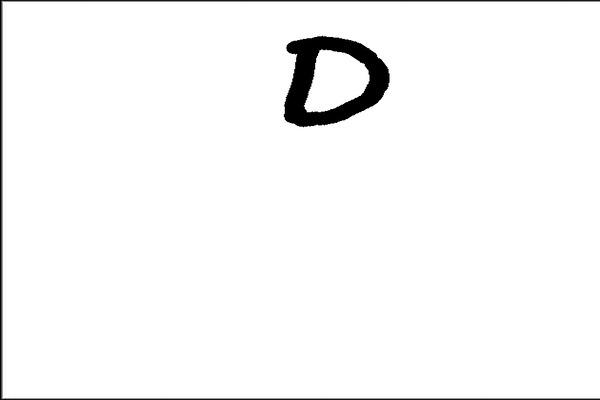D: (277, 29, 392, 127)
